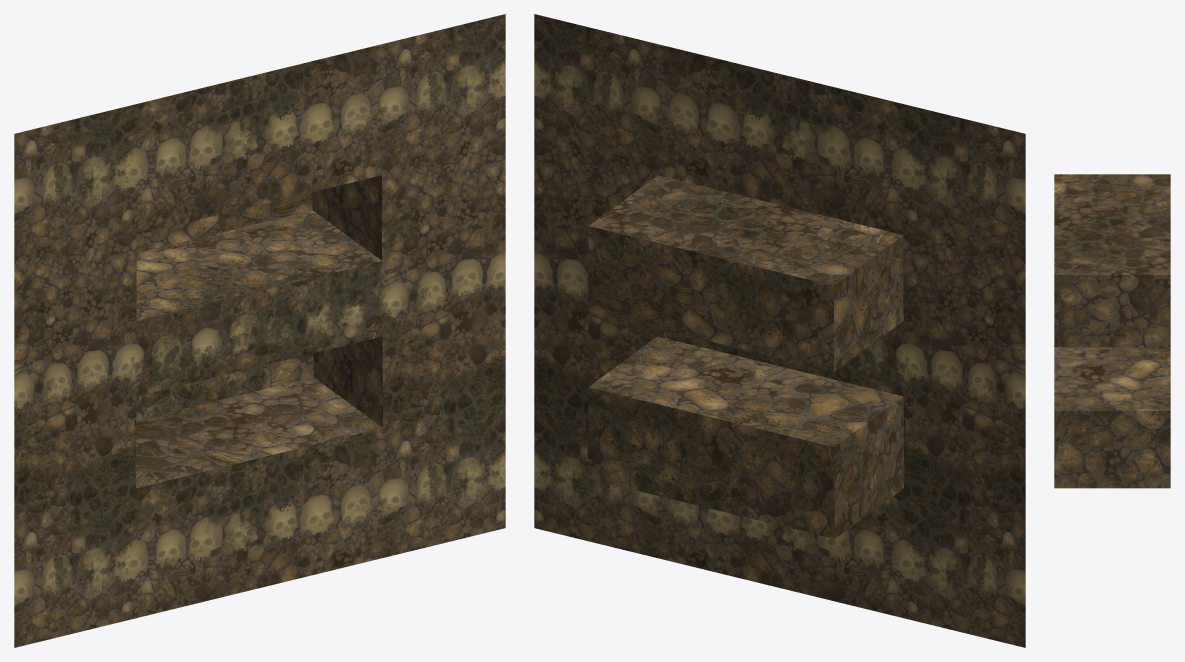
The model's file is Parede_Carneiro.fbx.
3 renders of one model, left to right at view 1: azimuth 30°, elevation 25°; view 2: azimuth 150°, elevation 25°; view 3: azimuth 270°, elevation 25°, orthographic. The views are drawn at different scales.
Visible parts, largest first — view 1: wall.003; view 2: wall.003; view 3: wall.003.
Part boxes in pixels (<box>): wall.003: <box>14,14,505,647</box>; wall.003: <box>534,14,1025,647</box>; wall.003: <box>1054,174,1170,488</box>.
Size of the model in its own units: 400 by 400 by 97.8.
